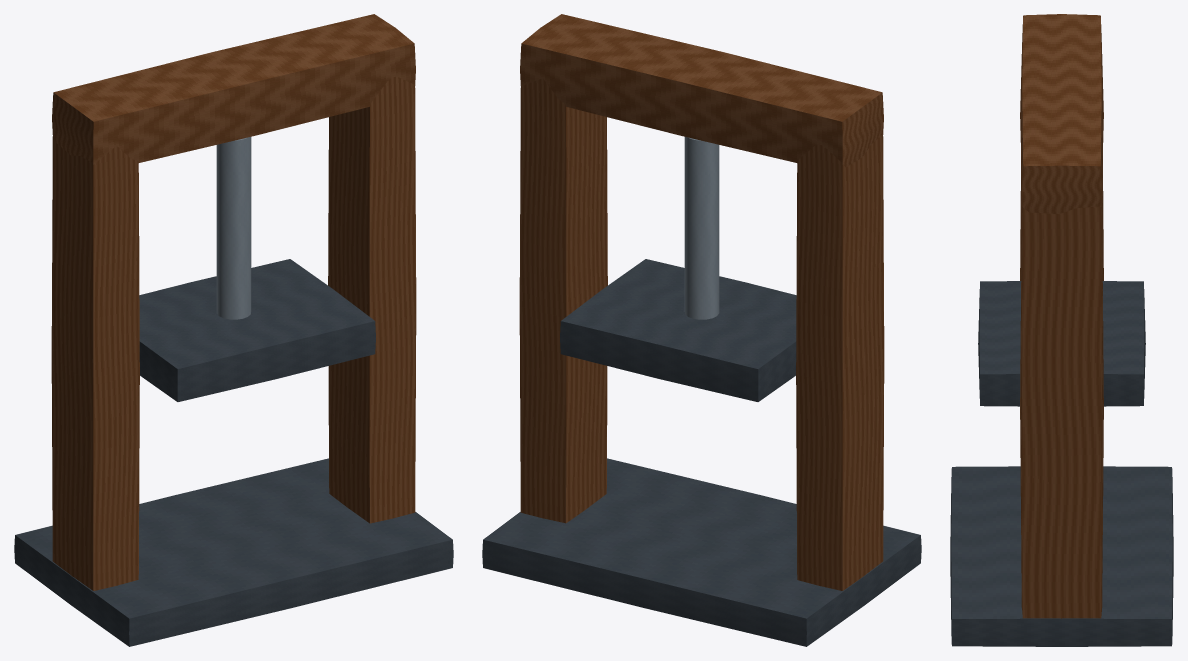
3 renders of one model, left to right at view 1: azimuth 30°, elevation 25°; view 2: azimuth 150°, elevation 25°; view 3: azimuth 270°, elevation 25°, orthographic. The views are drawn at different scales.
Visible parts, largest first — view 1: iron.3, wood.0, wood.1, wood.2, iron.5, steel.4; view 2: iron.3, wood.0, wood.1, wood.2, iron.5, steel.4; view 3: wood.1, iron.3, wood.2, iron.5, wood.0.
Part boxes in pixels (x1,y1,x2,y2): iron.3: (14, 458, 453, 646); wood.0: (51, 136, 139, 590); wood.1: (328, 77, 416, 523); wood.2: (52, 14, 415, 164); iron.5: (139, 259, 375, 401); steel.4: (216, 137, 251, 319); iron.3: (482, 458, 921, 646); wood.0: (796, 135, 884, 590); wood.1: (519, 78, 607, 523); wood.2: (520, 14, 883, 166); iron.5: (560, 259, 796, 401); steel.4: (684, 137, 719, 319); wood.1: (1020, 189, 1103, 618); iron.3: (950, 466, 1173, 646); wood.2: (1020, 14, 1103, 213); iron.5: (978, 281, 1145, 406); wood.0: (1020, 154, 1103, 280).
Size of the model in its own units: 1.3 by 1.91 by 0.8.
3 materials, 3 textured.
